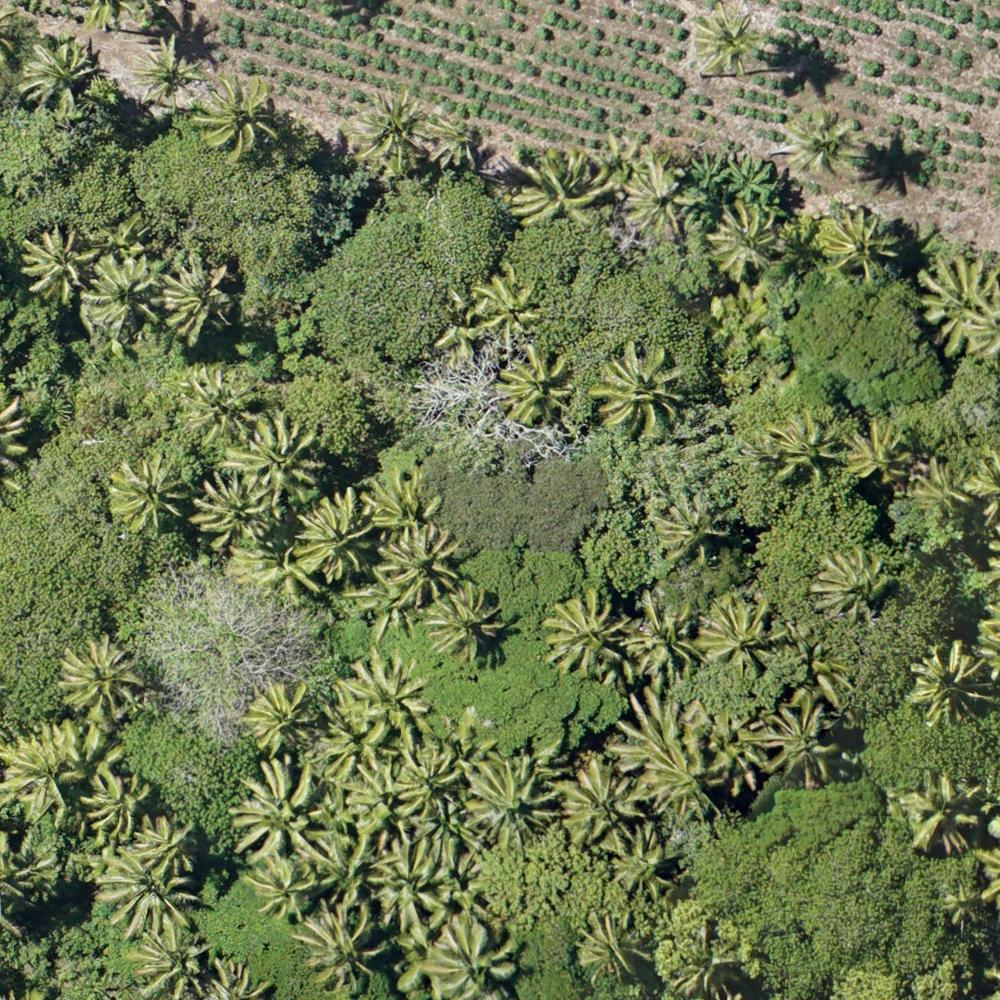not plam: (771, 812, 855, 894), (247, 189, 331, 268), (2, 525, 80, 608), (837, 919, 923, 993), (153, 585, 232, 665), (149, 723, 230, 801), (383, 378, 466, 453), (263, 308, 348, 381), (460, 5, 541, 81), (497, 492, 580, 566), (909, 8, 993, 81), (9, 130, 87, 207), (720, 314, 795, 392), (574, 11, 653, 85), (39, 361, 119, 434), (284, 6, 364, 77), (378, 209, 457, 280), (846, 327, 918, 400)
